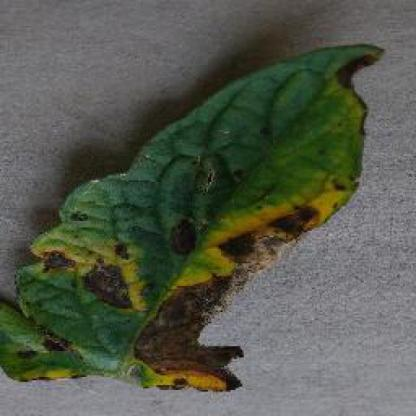Tomato_Blight: (0, 45, 387, 390)
